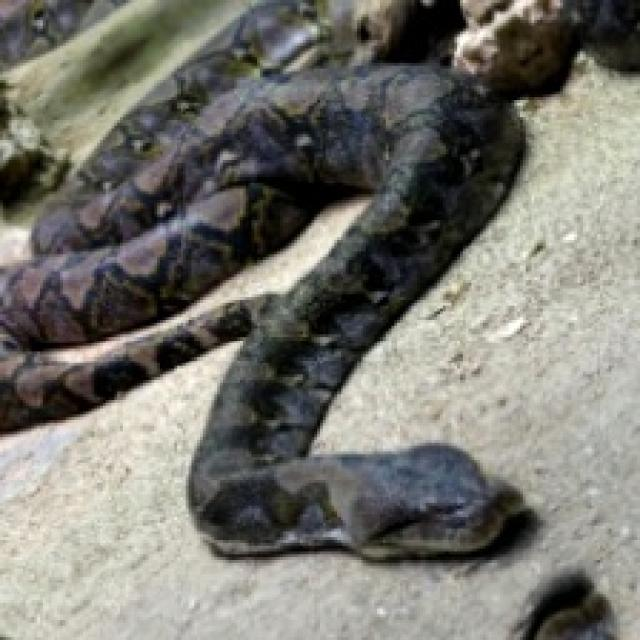reticulated python: (0, 0, 523, 557)
